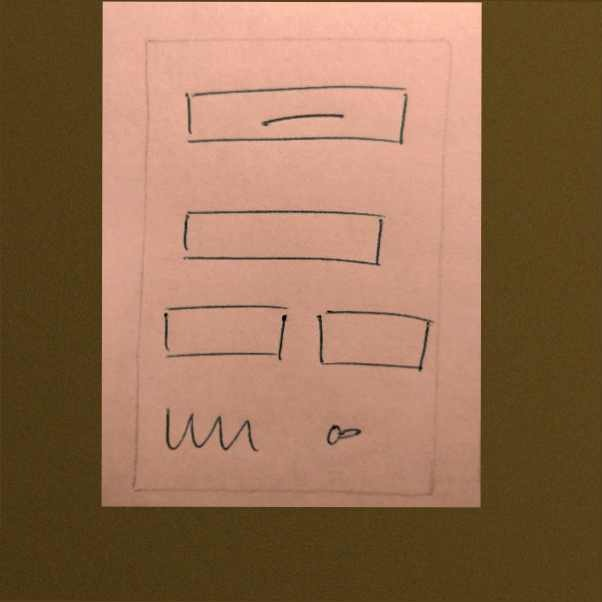button: (176, 81, 413, 151)
switch: (311, 412, 368, 456)
text: (156, 396, 265, 470)
text_input: (175, 201, 390, 277), (307, 299, 437, 380), (158, 291, 292, 367)
